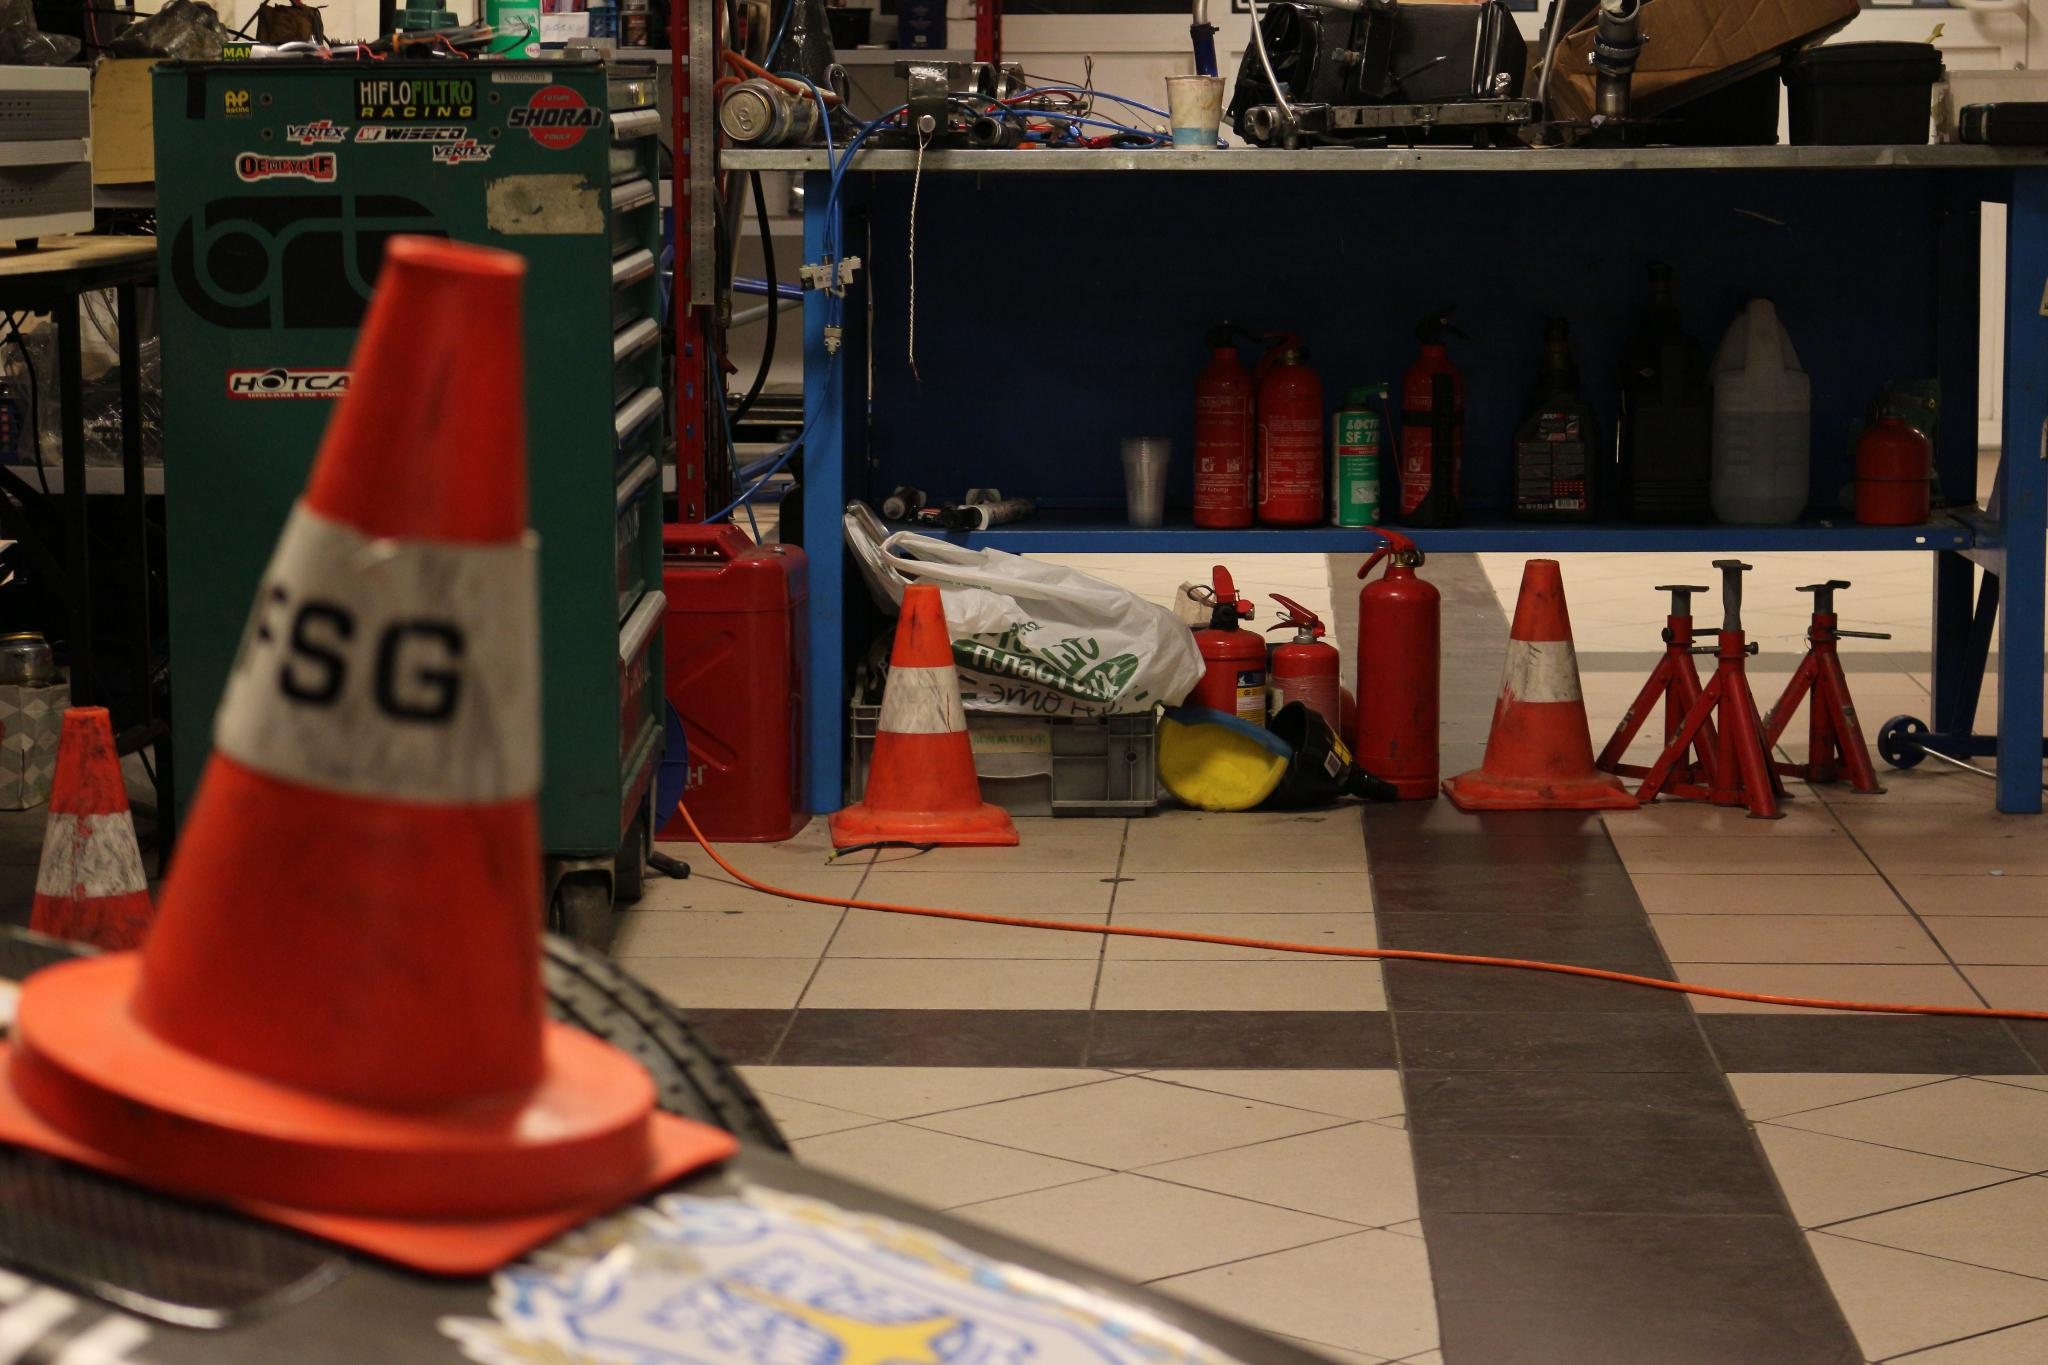Orange_Cone: (12, 225, 658, 1210), (816, 573, 1020, 849), (1448, 551, 1640, 814), (17, 696, 169, 963)
